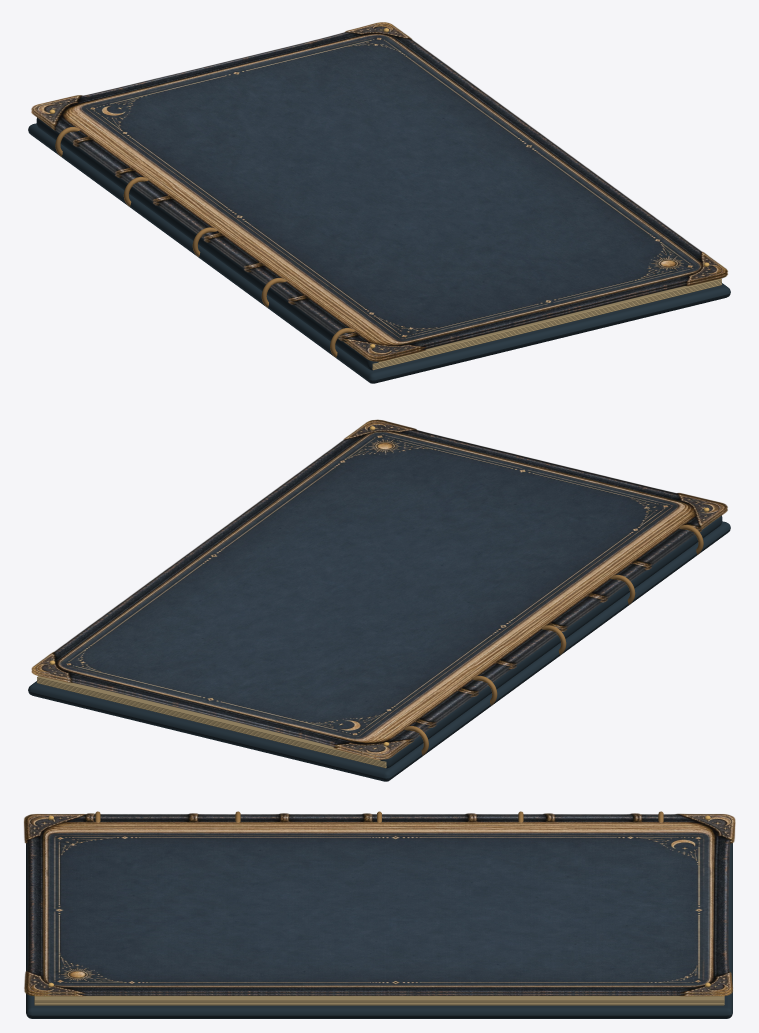
Rendered from collection-folio-portrait-v2.glb.
The picture shows the model from 3 angles, top to bottom: view 1: azimuth 30°, elevation 25°; view 2: azimuth 150°, elevation 25°; view 3: azimuth 270°, elevation 25°; orthographic projection. The views are drawn at different scales.
Visible parts, largest first — view 1: PortraitIlluminatedLeaf, PortraitCover, PortraitSpine, PortraitUnderleaf, PortraitPageEdge.004, PortraitPageEdge, PortraitPageEdge.001, PortraitPageEdge.002, PortraitPageEdge.003; view 2: PortraitIlluminatedLeaf, PortraitCover, PortraitSpine, PortraitUnderleaf, PortraitPageEdge.004, PortraitPageEdge, PortraitPageEdge.001, PortraitPageEdge.002, PortraitPageEdge.003; view 3: PortraitIlluminatedLeaf, PortraitCover, PortraitPageEdge.004, PortraitUnderleaf, PortraitPageEdge, PortraitPageEdge.002, PortraitPageEdge.003, PortraitPageEdge.001.
Boxes of the visible parts, box(x1,y1,x2,y2) form: PortraitIlluminatedLeaf: box(31, 22, 727, 358); PortraitCover: box(28, 123, 730, 383); PortraitSpine: box(36, 117, 378, 370); PortraitUnderleaf: box(31, 111, 727, 361); PortraitPageEdge.004: box(372, 278, 721, 364); PortraitPageEdge: box(372, 284, 721, 370); PortraitPageEdge.001: box(372, 283, 721, 368); PortraitPageEdge.002: box(372, 281, 721, 367); PortraitPageEdge.003: box(372, 280, 721, 366); PortraitIlluminatedLeaf: box(31, 419, 727, 756); PortraitCover: box(28, 521, 730, 781); PortraitSpine: box(380, 515, 722, 768); PortraitUnderleaf: box(31, 509, 727, 759); PortraitPageEdge.004: box(37, 676, 386, 762); PortraitPageEdge: box(37, 682, 386, 768); PortraitPageEdge.001: box(37, 681, 386, 766); PortraitPageEdge.002: box(37, 679, 386, 765); PortraitPageEdge.003: box(37, 678, 386, 764); PortraitIlluminatedLeaf: box(24, 813, 735, 993); PortraitCover: box(26, 843, 732, 1018); PortraitPageEdge.004: box(34, 996, 724, 1000); PortraitUnderleaf: box(24, 821, 735, 996); PortraitPageEdge: box(34, 1004, 724, 1005); PortraitPageEdge.002: box(34, 1001, 724, 1002); PortraitPageEdge.003: box(34, 1000, 724, 1001); PortraitPageEdge.001: box(34, 1003, 724, 1004).
Bounding box in the file's own units: 3.7 × 0.287 × 6.1.
Materials: 5 (1 with a texture image).
